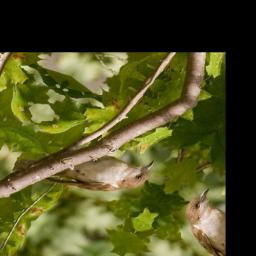Cuckoo: (7, 110, 163, 224)
